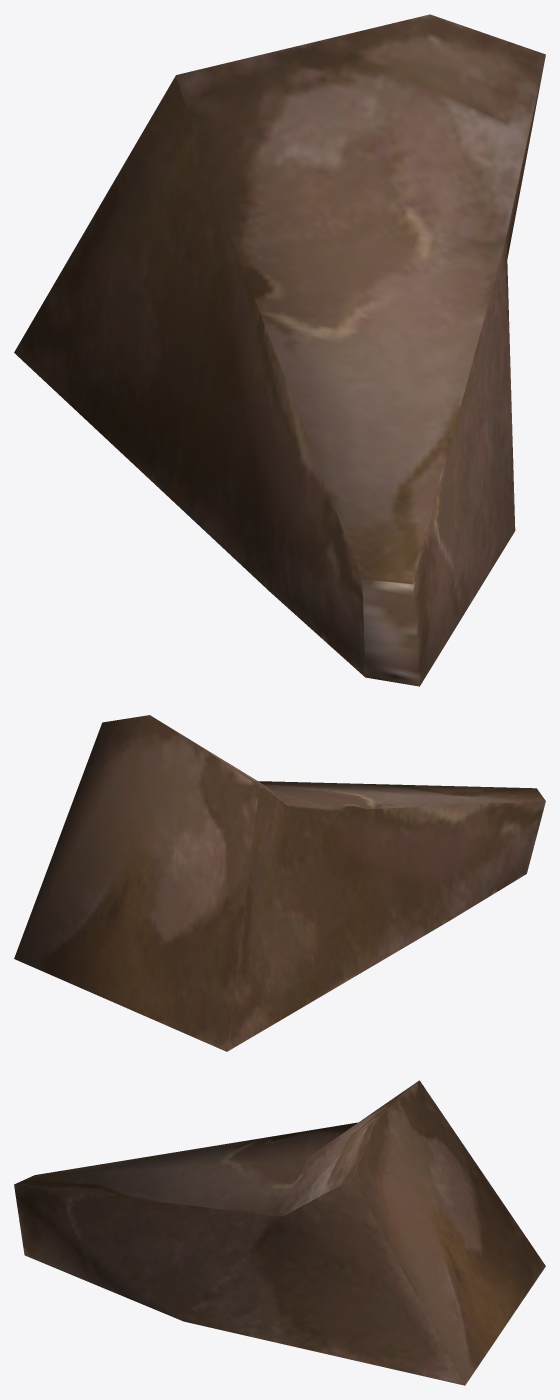
The model's file is Lty_xiaoshitou03.FBX.
3 views of the same model, one above another, from view 1: azimuth 30°, elevation 25°; view 2: azimuth 150°, elevation 25°; view 3: azimuth 270°, elevation 25° (orthographic). The views are drawn at different scales.
Parts seen in each view (by area): view 1: Lty_xiaoshitou03; view 2: Lty_xiaoshitou03; view 3: Lty_xiaoshitou03.
Part boxes in pixels (<box>): Lty_xiaoshitou03: <box>14,14,545,686</box>; Lty_xiaoshitou03: <box>14,715,545,1051</box>; Lty_xiaoshitou03: <box>14,1080,545,1385</box>.
Size of the model in its own units: 63.61 by 99.06 by 45.69.
